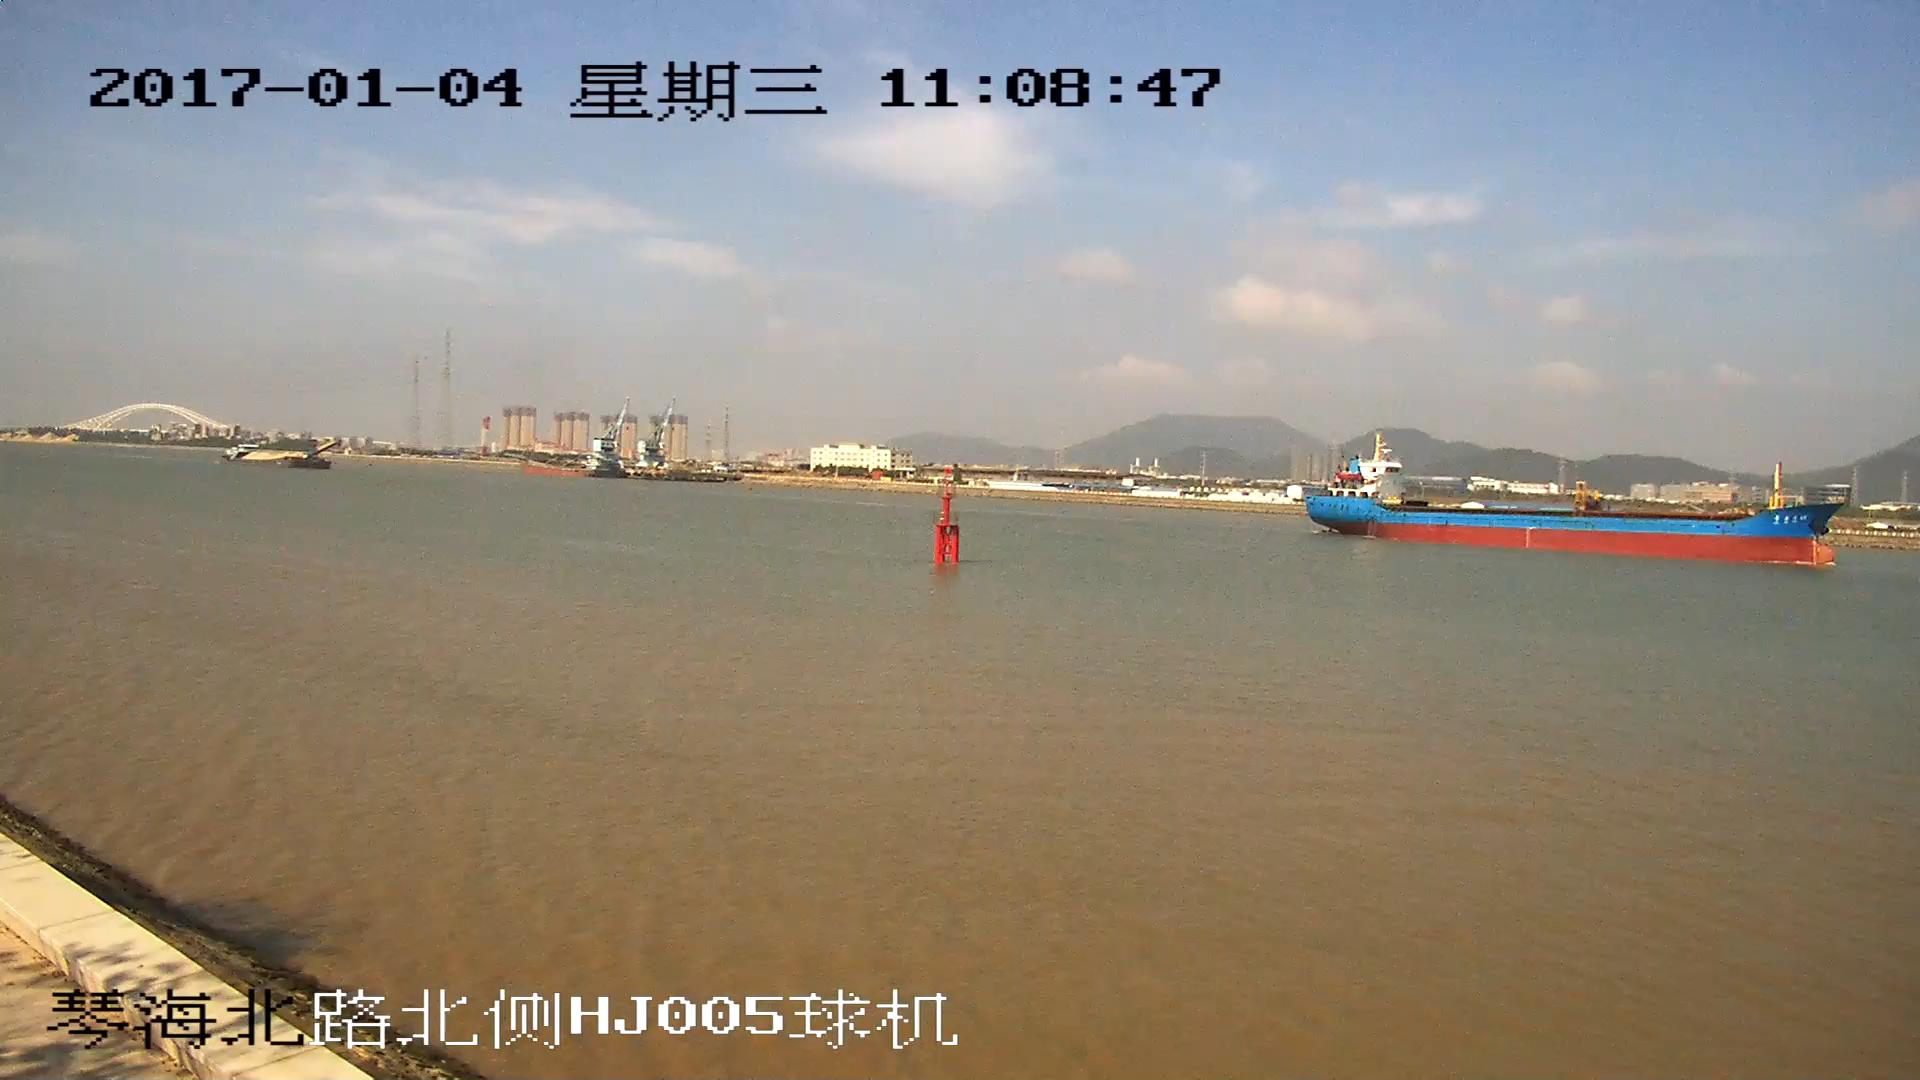general cargo ship: (1301, 435, 1844, 569)
